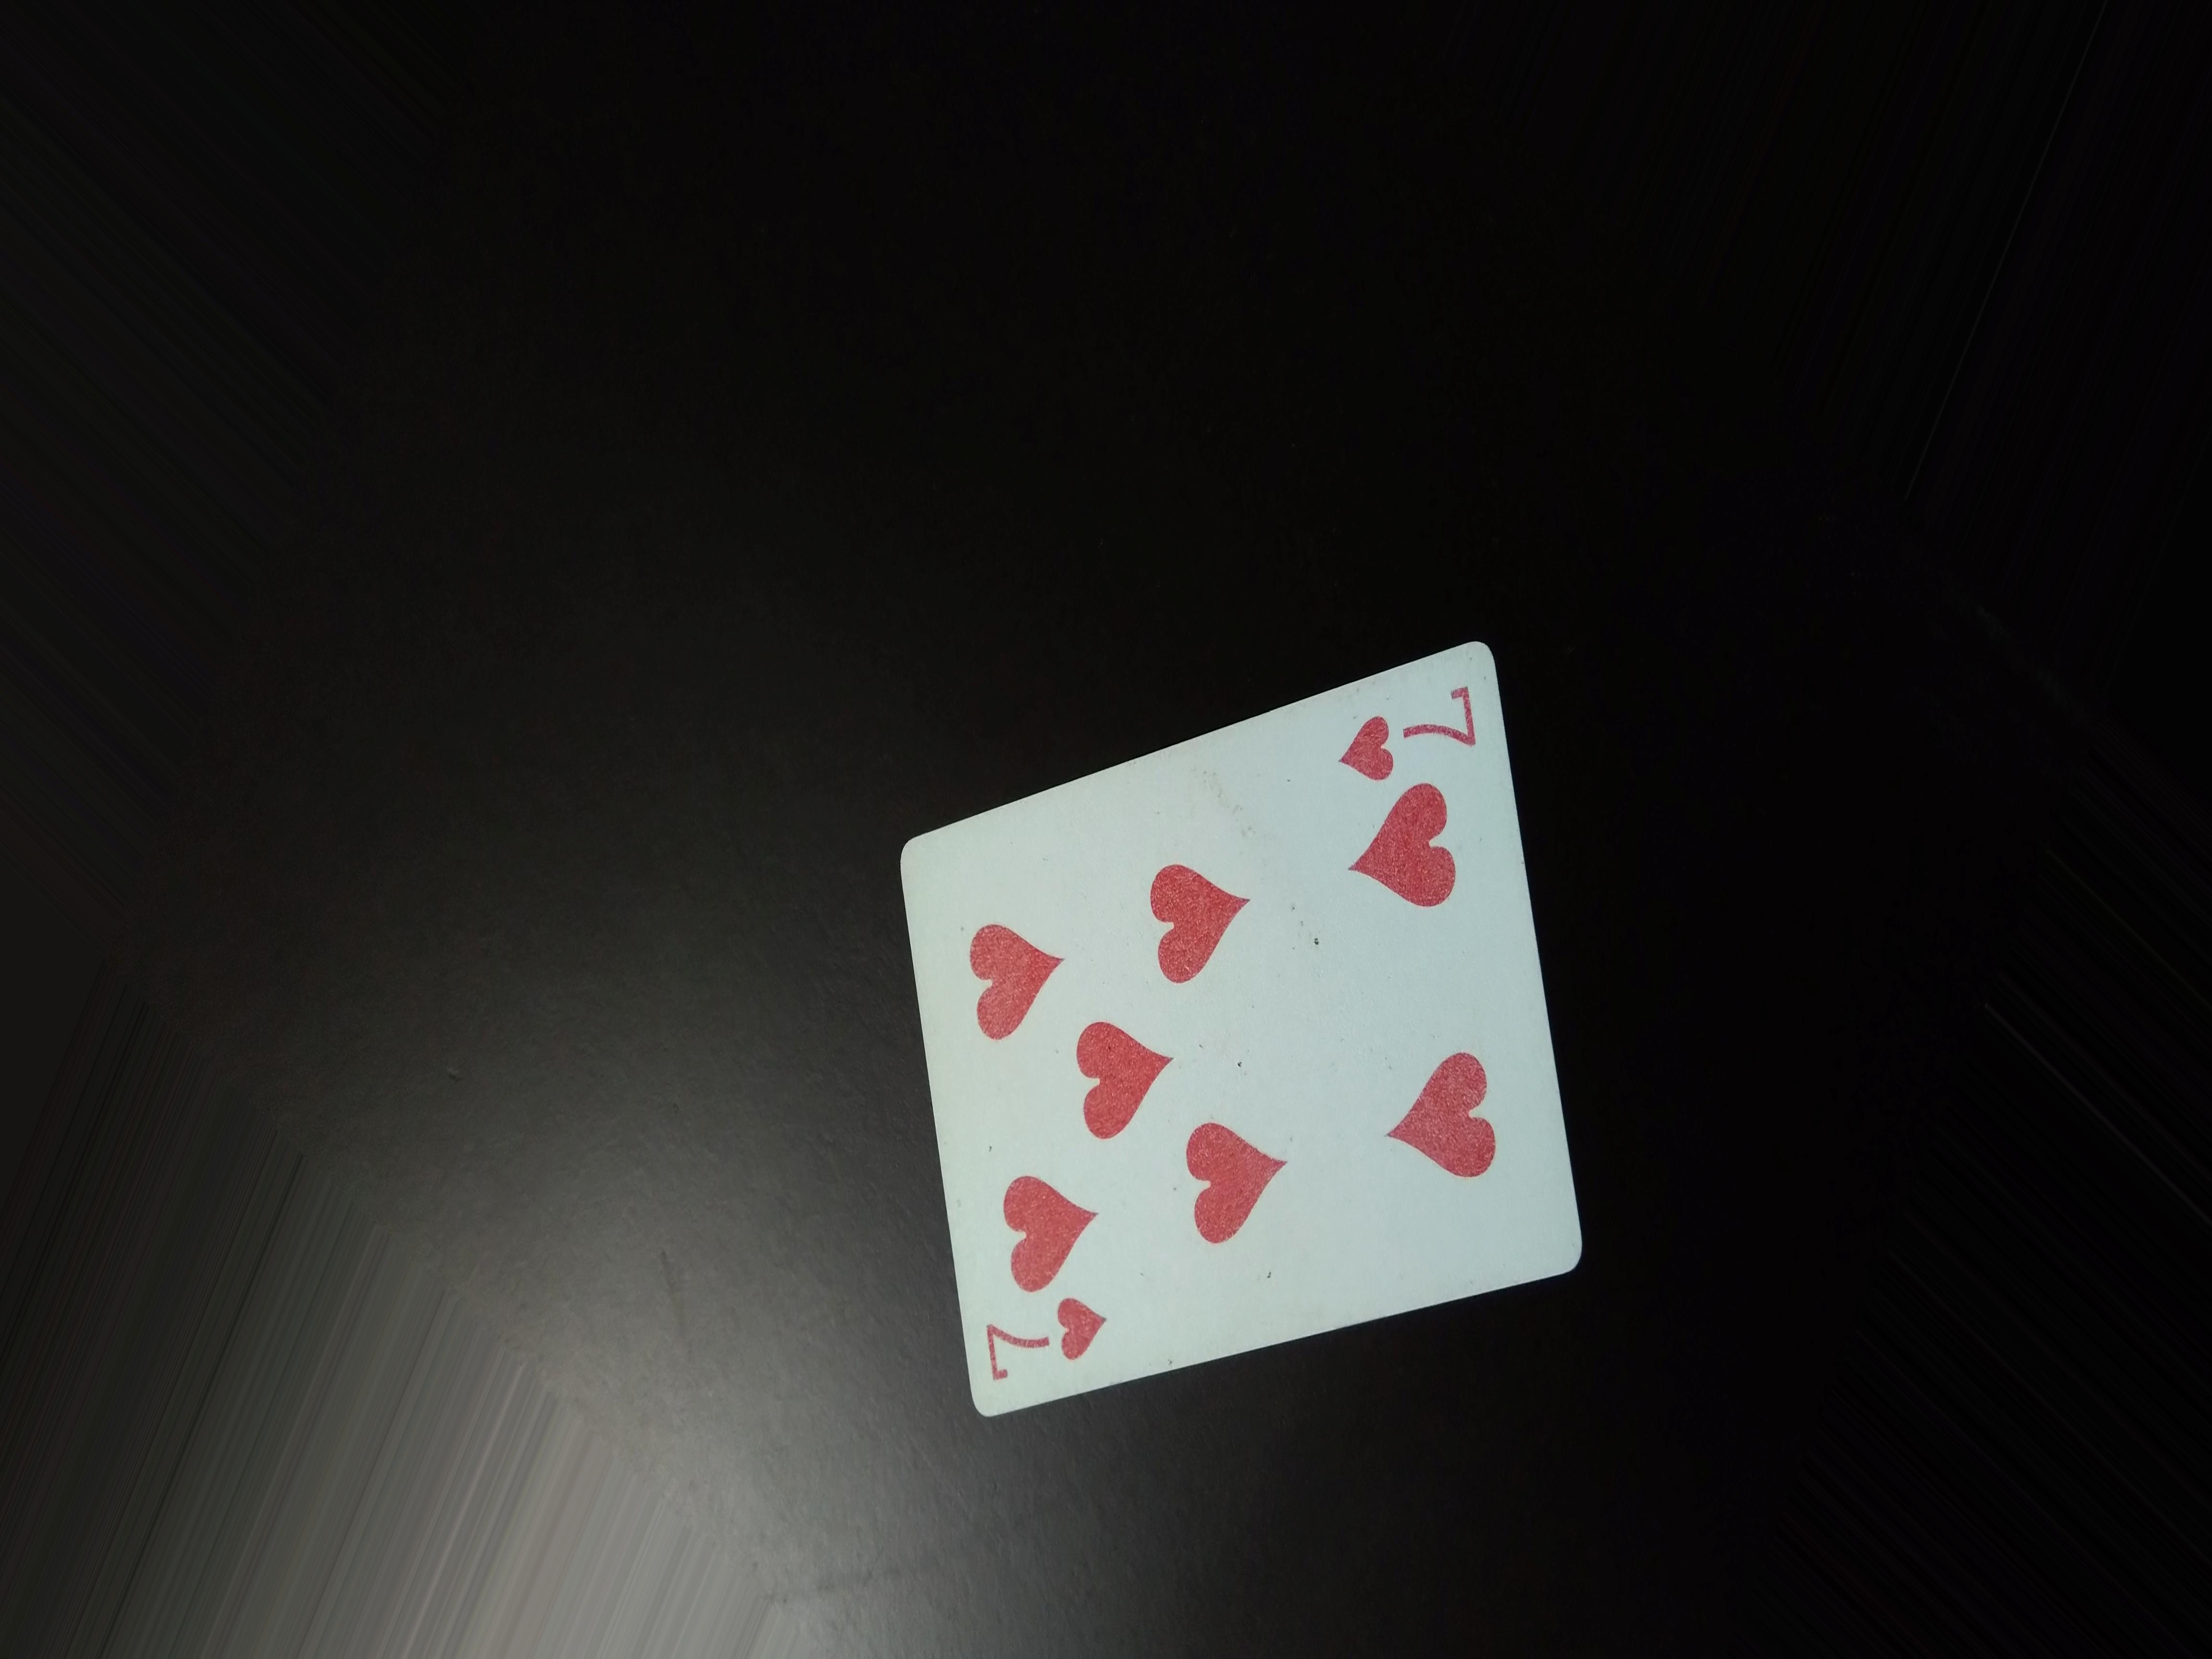7H: (953, 1291, 1134, 1380)
